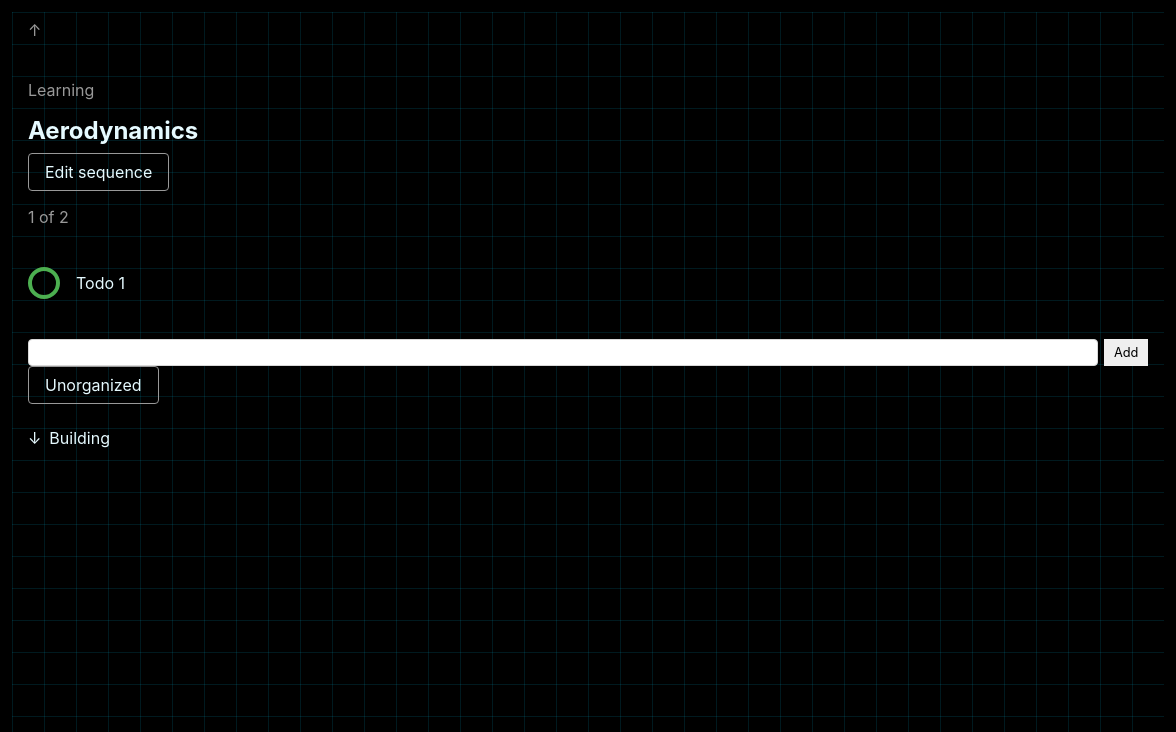
Test case: layer arrows are disabled while the sequence editor is open
Check: the button "↓ Building" is enabled, box [12,420,1164,456]
What coordinates should you click on to do the following:
click the button "Edit sequence"
I would click on:
 (99, 172)
Its box is [28,153,169,191].
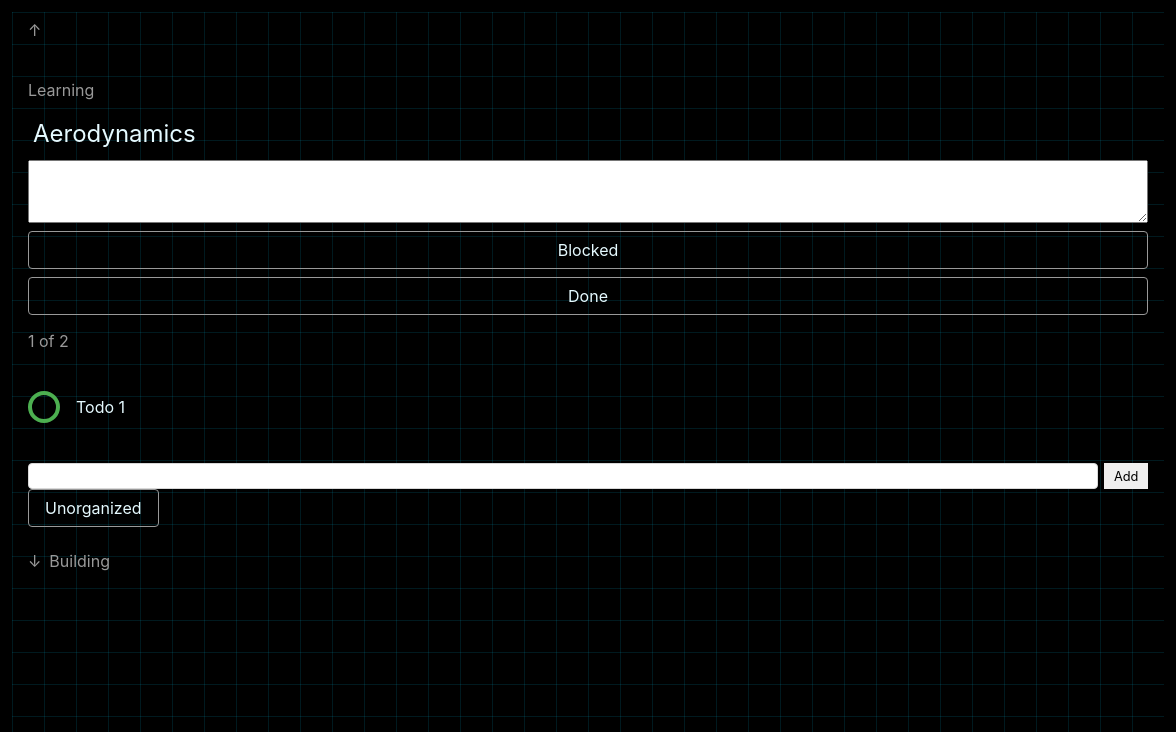
Check: the button "↑" is disabled, box [12,12,1164,48]
Check: the button "↓ Building" is disabled, box [12,543,1164,579]
What coordinates should you click on to do the following:
click the button "Done"
I would click on:
 (588, 296)
Its box is [28,277,1148,315].
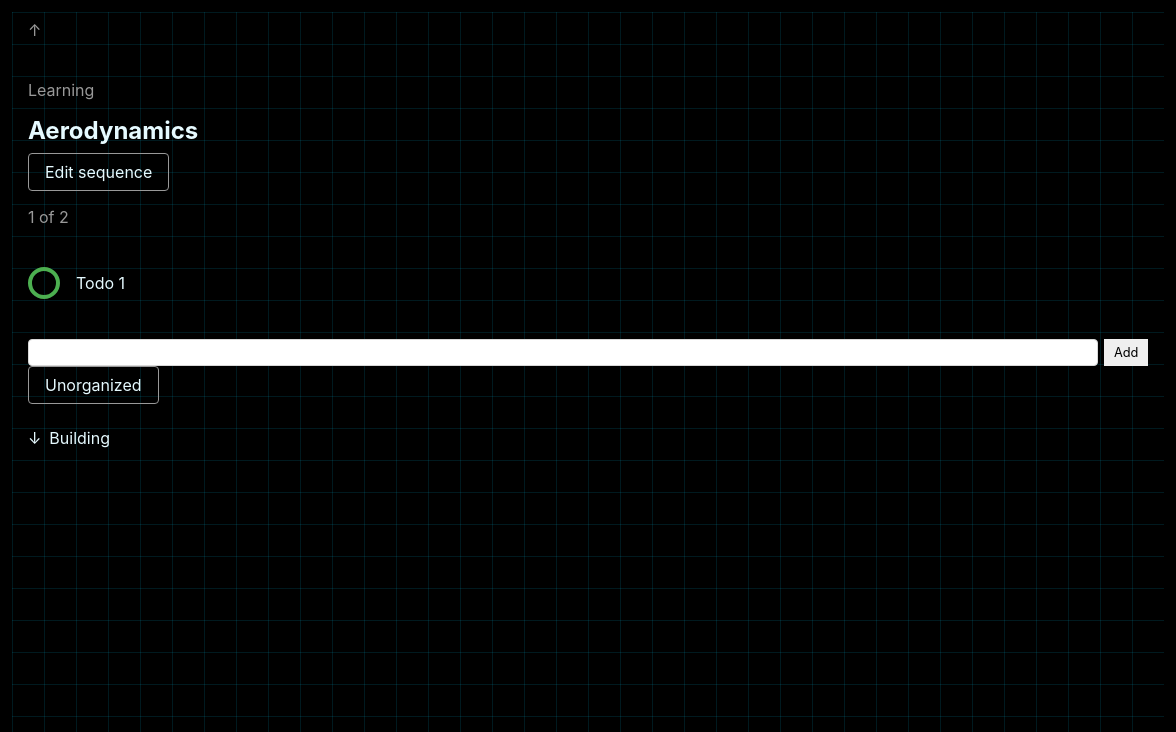
Check: the button "↓ Building" is enabled, box [12,420,1164,456]
